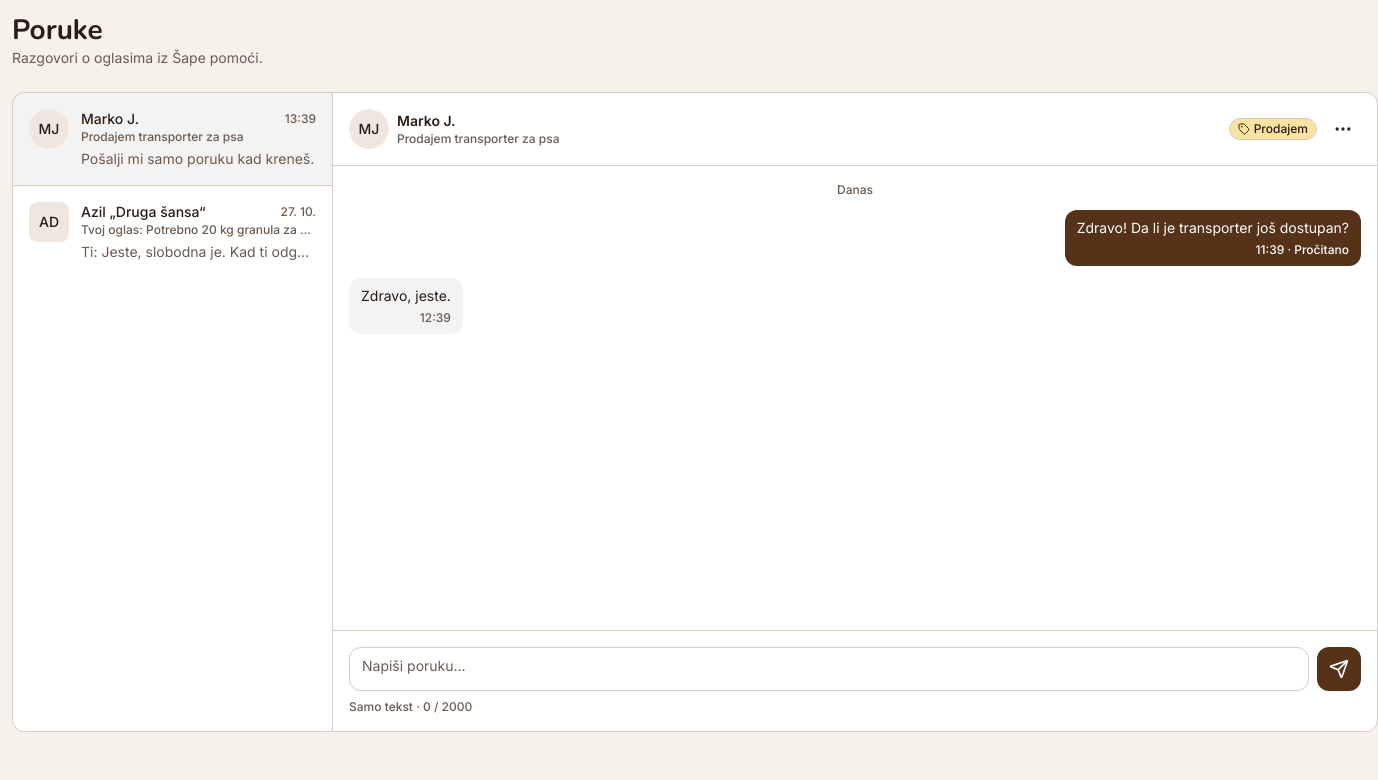
Test: FR-68 #7 — composer › an empty message cannot be sent
The image size is (1378, 780).
Click the button named "Pošalji poruku".
click(1339, 669)  # box left=1317, top=647, right=1361, bottom=691
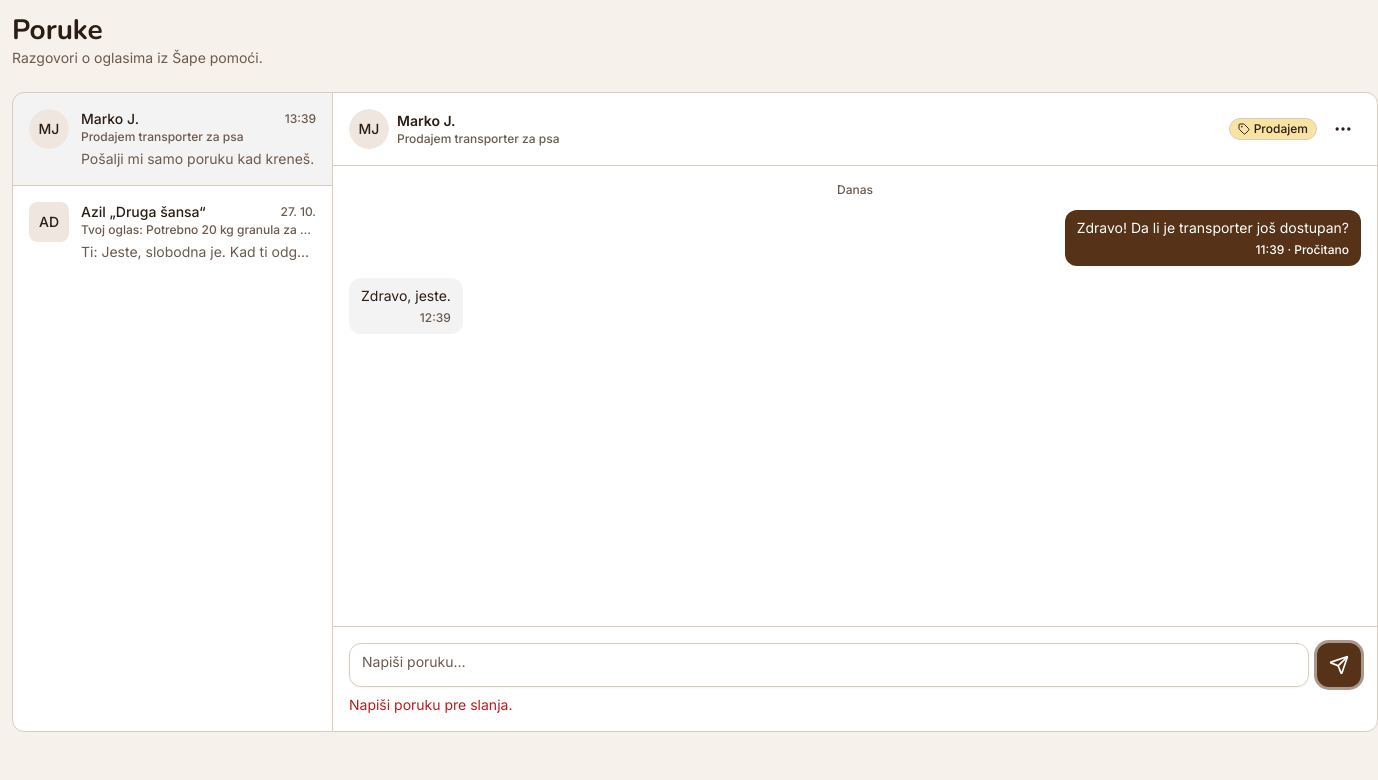
Now the text "Napiši poruku pre slanja." is shown, box left=349, top=696, right=512, bottom=713
